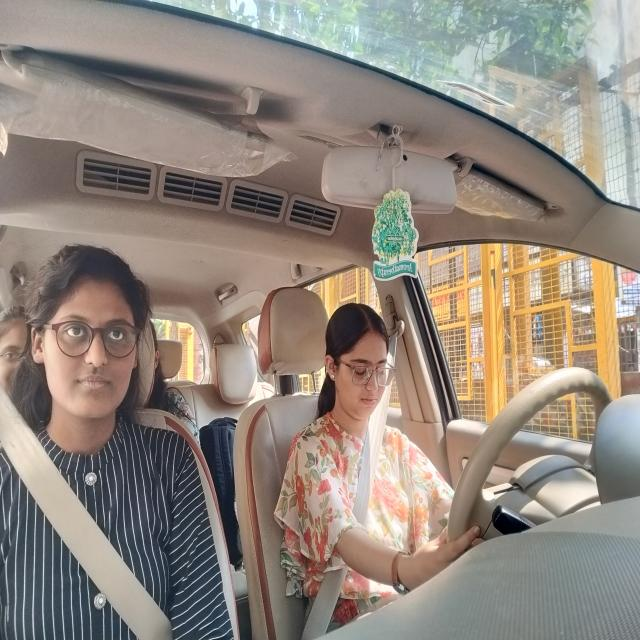drowsy: (326, 297, 394, 434)
person: (30, 243, 144, 420), (0, 303, 28, 396)
